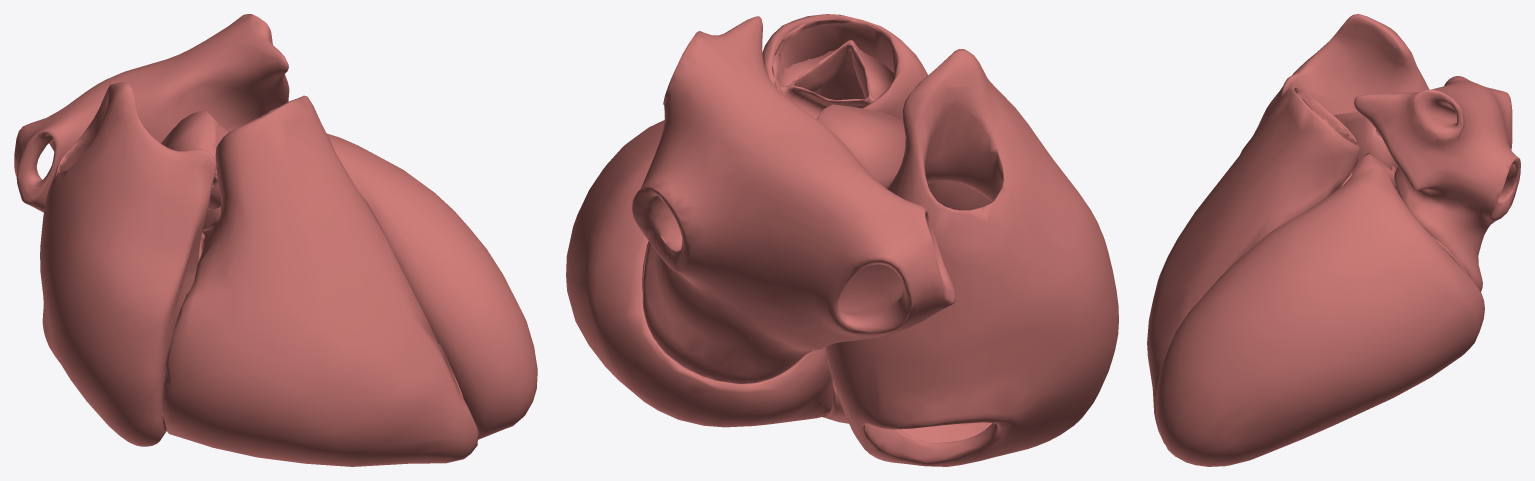
File: vh_m_heart-20.glb
3 renders of one model, left to right at view 1: azimuth 30°, elevation 25°; view 2: azimuth 150°, elevation 25°; view 3: azimuth 270°, elevation 25°, orthographic. The views are drawn at different scales.
Parts seen in each view (by area): view 1: VH_M_heart_right_ventricle, VH_M_right_cardiac_atrium, VH_M_heart_left_ventricle, VH_M_left_cardiac_atrium, VH_M_aortic_valve; view 2: VH_M_left_cardiac_atrium, VH_M_right_cardiac_atrium, VH_M_heart_left_ventricle, VH_M_heart_right_ventricle, VH_M_pulmonary_valve, VH_M_aortic_valve; view 3: VH_M_heart_left_ventricle, VH_M_heart_right_ventricle, VH_M_left_cardiac_atrium, VH_M_right_cardiac_atrium, VH_M_aortic_valve.
Boxes of the visible parts, x1=… form: VH_M_heart_right_ventricle: x1=162, y1=95, x2=477, y2=466; VH_M_right_cardiac_atrium: x1=40, y1=82, x2=216, y2=446; VH_M_heart_left_ventricle: x1=202, y1=133, x2=537, y2=439; VH_M_left_cardiac_atrium: x1=14, y1=14, x2=289, y2=212; VH_M_aortic_valve: x1=161, y1=111, x2=229, y2=210; VH_M_left_cardiac_atrium: x1=631, y1=16, x2=955, y2=384; VH_M_right_cardiac_atrium: x1=825, y1=49, x2=1118, y2=466; VH_M_heart_left_ventricle: x1=566, y1=120, x2=833, y2=427; VH_M_heart_right_ventricle: x1=762, y1=14, x2=928, y2=423; VH_M_pulmonary_valve: x1=772, y1=19, x2=897, y2=118; VH_M_aortic_valve: x1=816, y1=104, x2=905, y2=188; VH_M_heart_left_ventricle: x1=1155, y1=153, x2=1484, y2=466; VH_M_heart_right_ventricle: x1=1147, y1=86, x2=1359, y2=443; VH_M_left_cardiac_atrium: x1=1354, y1=76, x2=1520, y2=291; VH_M_right_cardiac_atrium: x1=1240, y1=14, x2=1429, y2=154; VH_M_aortic_valve: x1=1334, y1=111, x2=1397, y2=169.
Bounding box in the file's own units: 0.1243 × 0.1054 × 0.1053.
